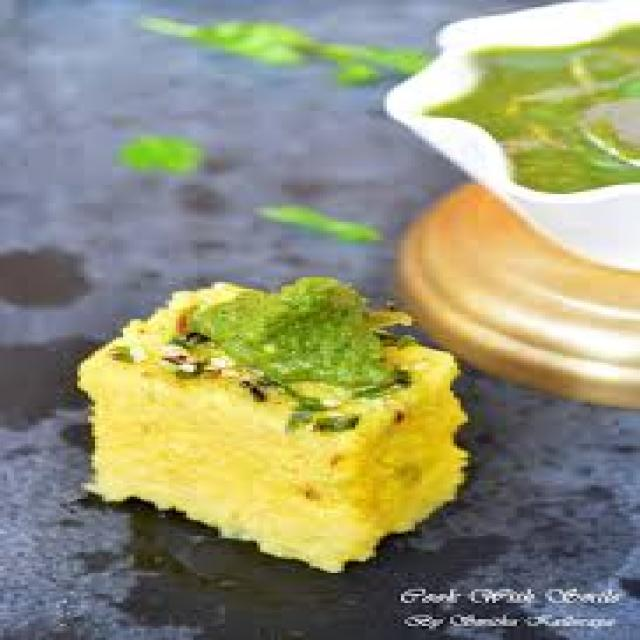DHOKLA: (77, 277, 464, 571)
